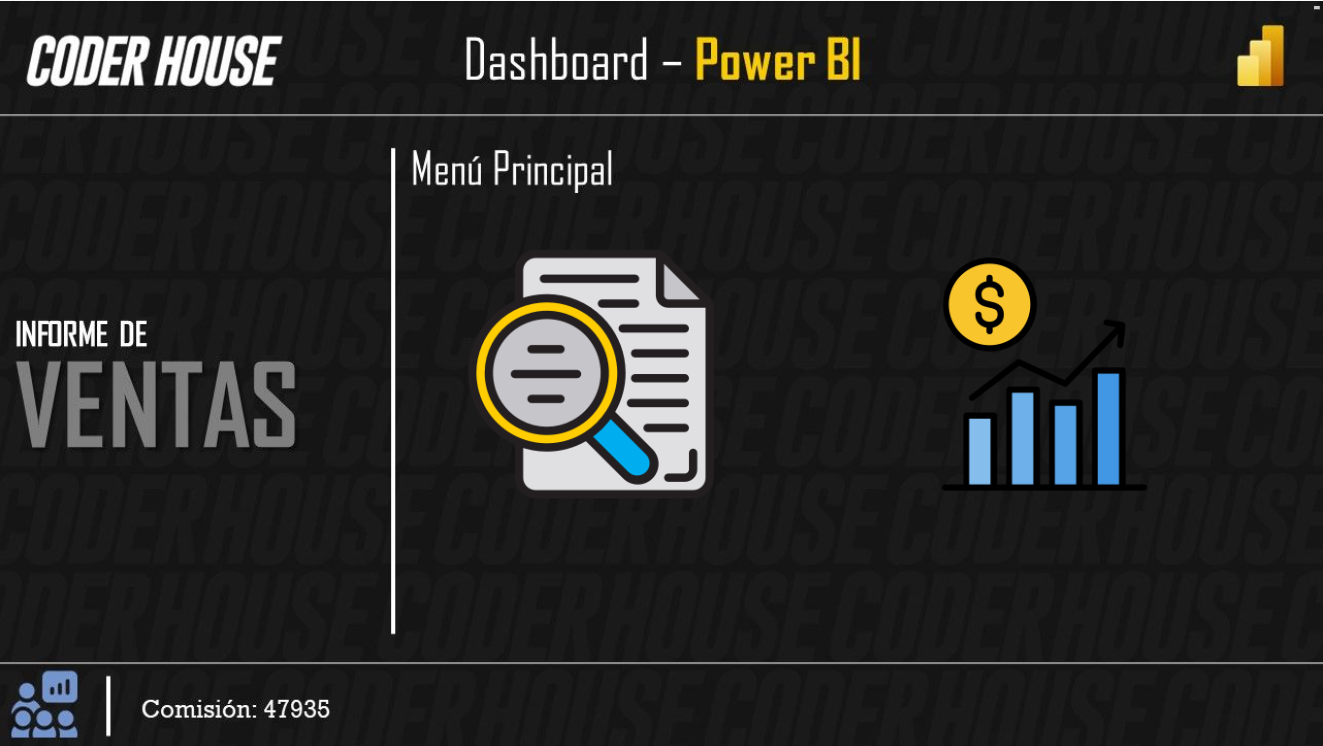

The page's visual inventory and layout, read from the dashboard file:
{"tool":"powerbi","page":{"name":"PORTADA","canvas":[1280,720],"ordinal":0},"visuals":[{"type":"actionButton","box":[0,0,100,40],"z":0},{"type":"image","box":[446.5,235.3,249.4,249.4],"z":1000},{"type":"image","box":[884.4,235.3,249.4,249.4],"z":2000},{"type":"textbox","box":[1264.3,0,15.6,12.8],"z":2001}]}

Visuals, with their boxes in screenshot pixels (x1, y1, x2, y2), scaled from the page's 1280x720 canvas onto the 1323x746 screenshot:
actionButton: x1=0 y1=0 x2=103 y2=41
image: x1=461 y1=244 x2=719 y2=502
image: x1=914 y1=244 x2=1172 y2=502
textbox: x1=1307 y1=0 x2=1322 y2=13
